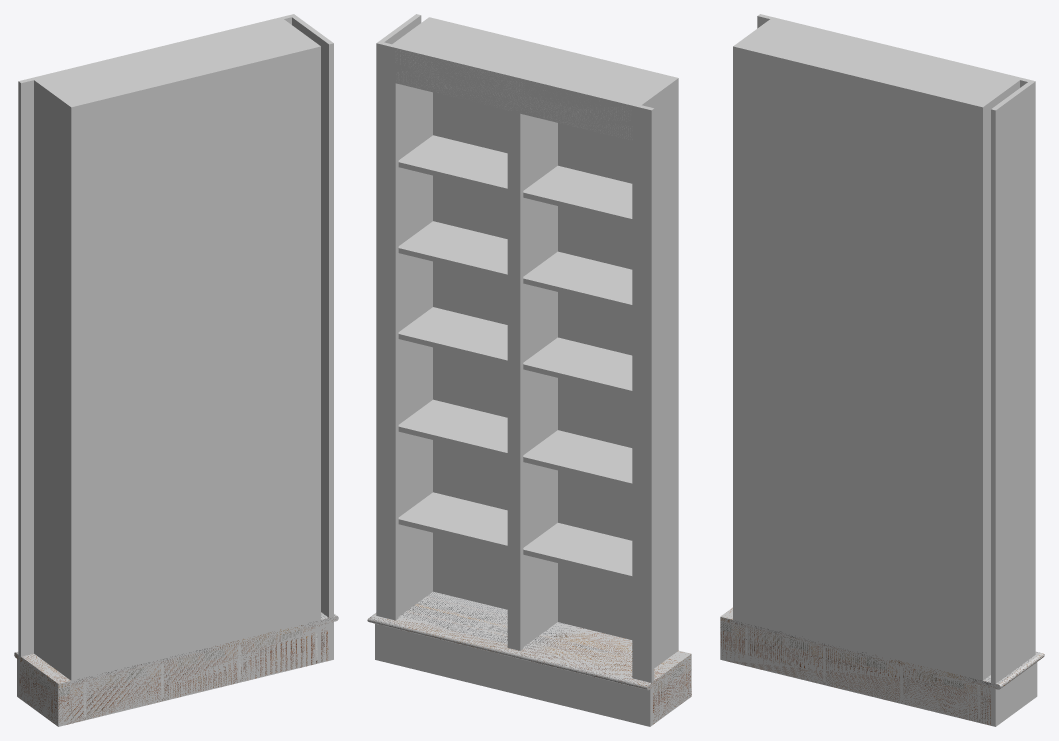
3 views of the same model, side by side, from view 1: azimuth 30°, elevation 25°; view 2: azimuth 150°, elevation 25°; view 3: azimuth 330°, elevation 25° (orthographic).
Visible parts, largest first — view 1: mesh11_mesh11-geometry, mesh9_mesh9-geometry, mesh3_mesh3-geometry, mesh1_mesh1-geometry, mesh6_mesh6-geometry, mesh42_mesh42-geometry, mesh41_mesh41-geometry, mesh8_mesh8-geometry, mesh29_mesh29-geometry; view 2: mesh11_mesh11-geometry, mesh1_mesh1-geometry, mesh27_mesh27-geometry, mesh23_mesh23-geometry, mesh9_mesh9-geometry, mesh8_mesh8-geometry, mesh4_mesh4-geometry, mesh15_mesh15-geometry, mesh13_mesh13-geometry, mesh14_mesh14-geometry, mesh16_mesh16-geometry, mesh17_mesh17-geometry (+9 smaller); view 3: mesh11_mesh11-geometry, mesh6_mesh6-geometry, mesh3_mesh3-geometry, mesh27_mesh27-geometry, mesh42_mesh42-geometry, mesh41_mesh41-geometry, mesh1_mesh1-geometry, mesh8_mesh8-geometry, mesh4_mesh4-geometry, mesh29_mesh29-geometry.
Part boxes in pixels (<box>): mesh11_mesh11-geometry: <box>70,46,320,680</box>; mesh9_mesh9-geometry: <box>34,79,71,679</box>; mesh3_mesh3-geometry: <box>19,623,328,726</box>; mesh1_mesh1-geometry: <box>18,14,295,656</box>; mesh6_mesh6-geometry: <box>292,16,333,617</box>; mesh42_mesh42-geometry: <box>164,20,311,72</box>; mesh41_mesh41-geometry: <box>39,51,186,103</box>; mesh8_mesh8-geometry: <box>14,612,338,688</box>; mesh29_mesh29-geometry: <box>67,43,319,121</box>; mesh11_mesh11-geometry: <box>428,17,678,650</box>; mesh1_mesh1-geometry: <box>376,41,654,682</box>; mesh27_mesh27-geometry: <box>392,20,432,616</box>; mesh23_mesh23-geometry: <box>517,50,557,646</box>; mesh9_mesh9-geometry: <box>637,79,677,667</box>; mesh8_mesh8-geometry: <box>367,591,691,690</box>; mesh4_mesh4-geometry: <box>375,623,652,726</box>; mesh15_mesh15-geometry: <box>523,430,632,488</box>; mesh13_mesh13-geometry: <box>523,337,632,395</box>; mesh14_mesh14-geometry: <box>523,251,632,309</box>; mesh16_mesh16-geometry: <box>523,523,632,580</box>; mesh17_mesh17-geometry: <box>523,165,632,223</box>; mesh11_mesh11-geometry: <box>733,46,983,680</box>; mesh6_mesh6-geometry: <box>991,82,1032,683</box>; mesh3_mesh3-geometry: <box>720,622,990,725</box>; mesh27_mesh27-geometry: <box>982,79,1019,679</box>; mesh42_mesh42-geometry: <box>867,51,1014,103</box>; mesh41_mesh41-geometry: <box>742,20,889,72</box>; mesh1_mesh1-geometry: <box>757,14,1035,656</box>; mesh8_mesh8-geometry: <box>720,607,1044,689</box>; mesh4_mesh4-geometry: <box>991,662,1037,726</box>; mesh29_mesh29-geometry: <box>734,44,986,121</box>.
Bounding box in the file's own units: 0.4269 × 0.8968 × 0.1165.
